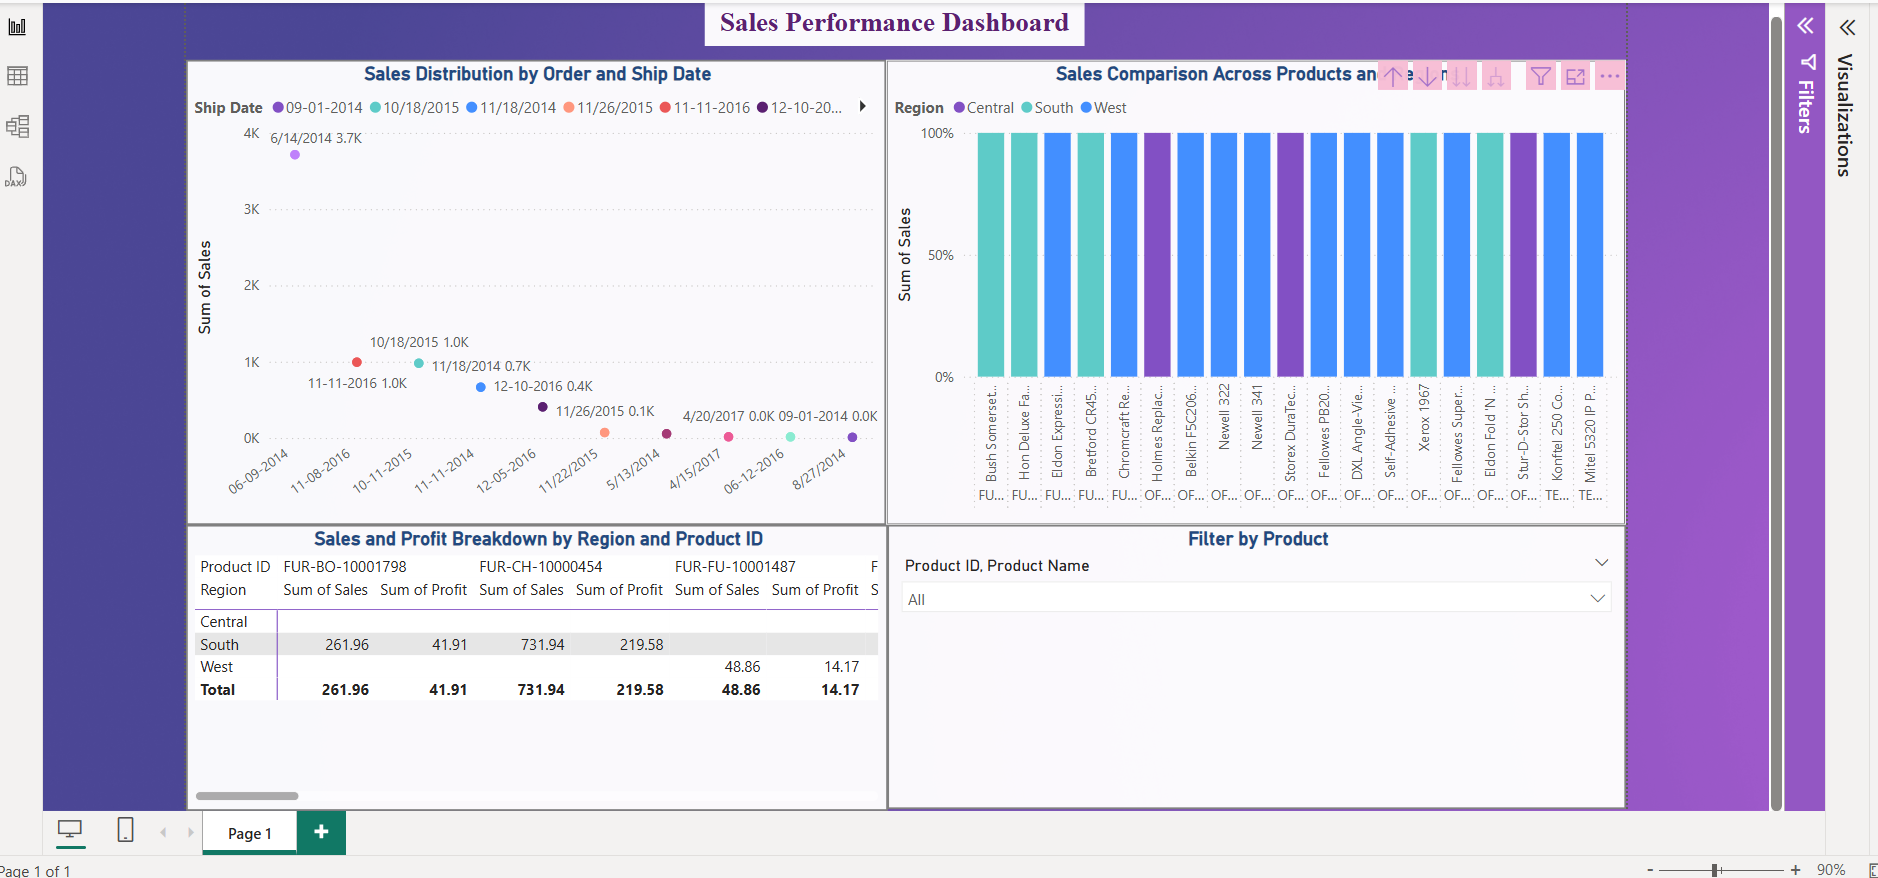

What the dashboard file says about the page in this screenshot:
{"tool":"powerbi","page":{"name":"Page 1","canvas":[1280,720],"ordinal":0},"visuals":[{"type":"lineChart","title":"Sales Distribution by Order and Ship Date","fields":{"Category":["pub?output=csv.Order Date"],"Series":["pub?output=csv.Ship Date"],"Y":["Sum(pub?output=csv.Sales)"]},"box":[0,52.6,622.4,413.3],"z":0},{"type":"pivotTable","title":"Sales and Profit Breakdown by Region and Product ID","fields":{"Rows":["pub?output=csv.Region"],"Columns":["pub?output=csv.Product ID","pub?output=csv.Product Name"],"Values":["Sum(pub?output=csv.Sales)","Sum(pub?output=csv.Profit)"]},"box":[0,465.9,623.6,254.3],"z":1000},{"type":"hundredPercentStackedColumnChart","title":"Sales Comparison Across Products and Regions","fields":{"Category":["pub?output=csv.Product ID","pub?output=csv.Product Name"],"Series":["pub?output=csv.Region"],"Y":["Sum(pub?output=csv.Sales)"]},"box":[622.4,52.6,657.9,413.3],"z":2000},{"type":"slicer","title":"Filter by Product","fields":{"Values":["pub?output=csv.Product ID","pub?output=csv.Product Name"]},"box":[623.6,465.9,656.7,253.1],"z":3000},{"type":"textbox","box":[461.1,0,337.6,39.8],"z":4000}]}

Visuals, with their boxes on the page's 1280x720 design canvas (x1, y1, x2, y2). These are canvas units, not pixel positions in the 1878x878 screenshot, which may show the page scaled, cropped or inside an application window:
"Sales Distribution by Order and Ship Date" lineChart: Rect(0, 53, 622, 466)
"Sales and Profit Breakdown by Region and Product ID" pivotTable: Rect(0, 466, 624, 720)
"Sales Comparison Across Products and Regions" hundredPercentStackedColumnChart: Rect(622, 53, 1280, 466)
"Filter by Product" slicer: Rect(624, 466, 1280, 719)
textbox: Rect(461, 0, 799, 40)
